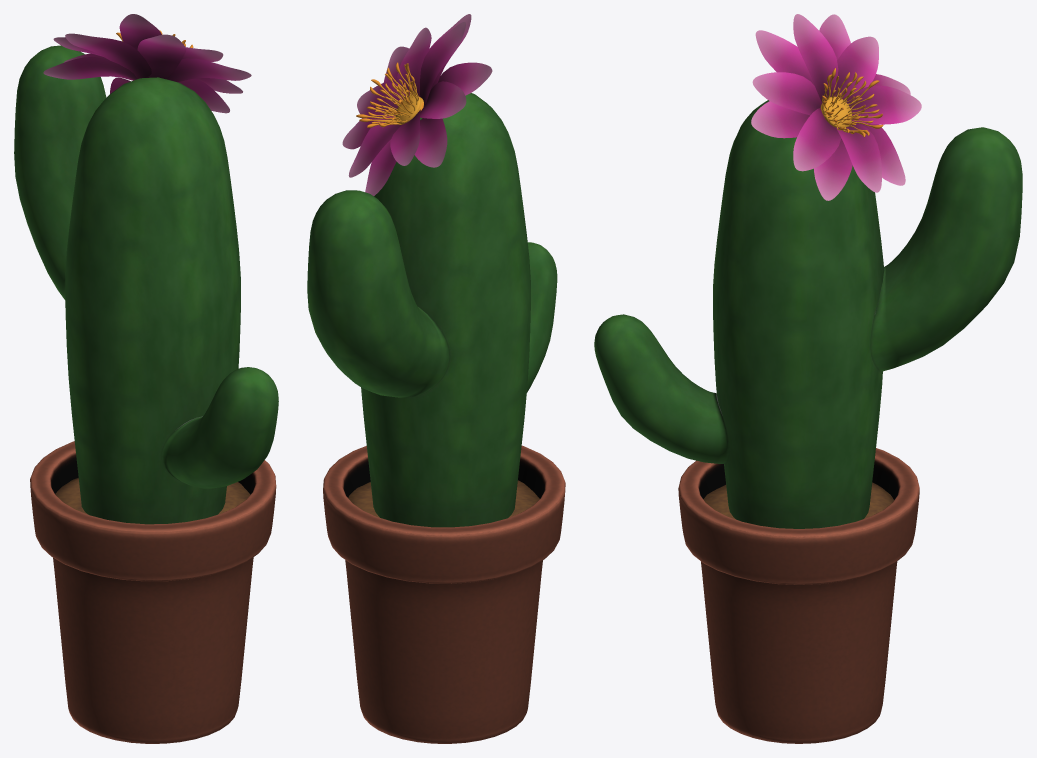
The model's file is test_cactus.obj.
The picture shows the model from 3 angles, left to right: view 1: azimuth 30°, elevation 25°; view 2: azimuth 150°, elevation 25°; view 3: azimuth 270°, elevation 25°; orthographic projection. The views are drawn at different scales.
Visible parts, largest first — view 1: cacti_body, cacti_pot, cacti_flower_pink; view 2: cacti_body, cacti_pot, cacti_flower_pink; view 3: cacti_body, cacti_pot, cacti_flower_pink.
Boxes of the visible parts, <box> form: cacti_body: <box>14,45,278,524</box>; cacti_pot: <box>30,441,276,743</box>; cacti_flower_pink: <box>43,14,251,113</box>; cacti_body: <box>307,93,557,527</box>; cacti_pot: <box>323,445,565,743</box>; cacti_flower_pink: <box>342,14,492,195</box>; cacti_body: <box>594,100,1022,528</box>; cacti_pot: <box>678,448,919,743</box>; cacti_flower_pink: <box>751,14,921,200</box>.
Size of the model in its own units: 2.89 by 9.08 by 5.13.
Materials: 2 (2 with a texture image).
